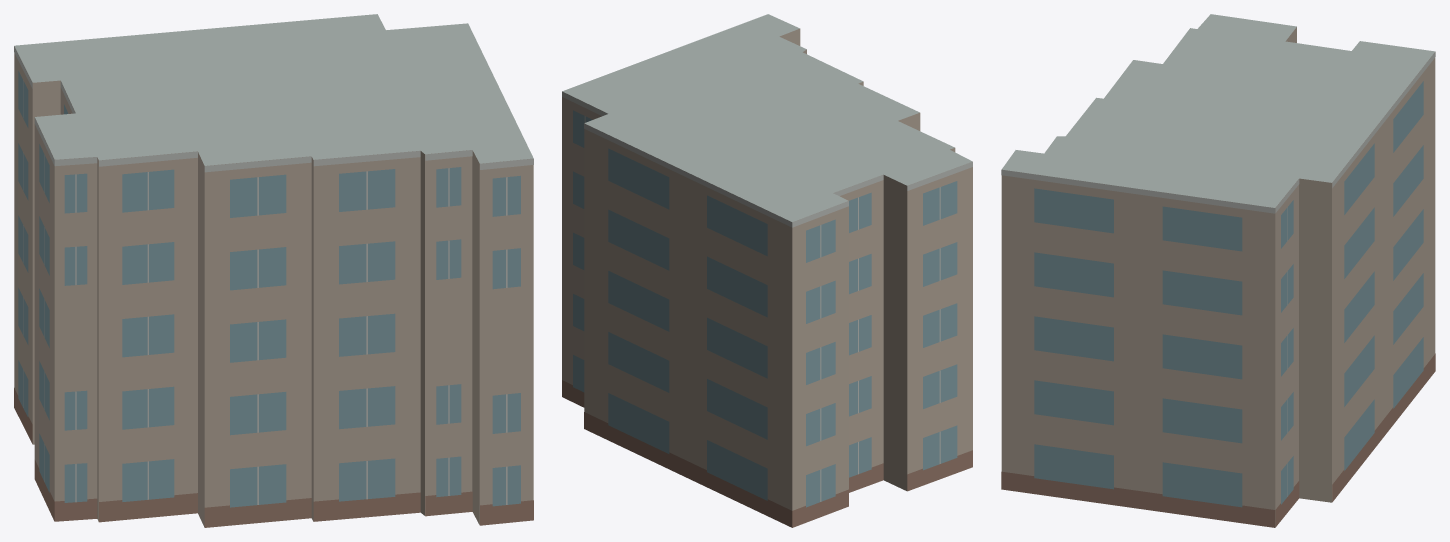
The model's file is survey-upis-32542154.glb.
3 renders of one model, left to right at view 1: azimuth 30°, elevation 25°; view 2: azimuth 150°, elevation 25°; view 3: azimuth 270°, elevation 25°, orthographic. The views are drawn at different scales.
Visible parts, largest first — view 1: survey-upis-32542154.tmp; view 2: survey-upis-32542154.tmp; view 3: survey-upis-32542154.tmp.
Part boxes in pixels (x1,y1,x2,y2): survey-upis-32542154.tmp: (14, 14, 533, 527); survey-upis-32542154.tmp: (562, 14, 972, 527); survey-upis-32542154.tmp: (1001, 14, 1435, 527).
Size of the model in its own units: 17.9 by 13.75 by 16.92.
